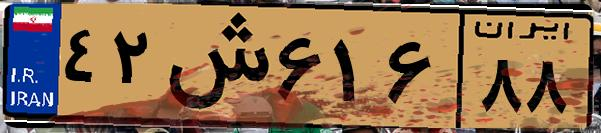1: (330, 28, 385, 110)
2: (110, 28, 158, 98)
4: (57, 26, 110, 100)
6: (270, 28, 330, 110), (385, 28, 445, 110)
8: (475, 38, 525, 113), (525, 38, 570, 115)
ش: (158, 12, 270, 120)
